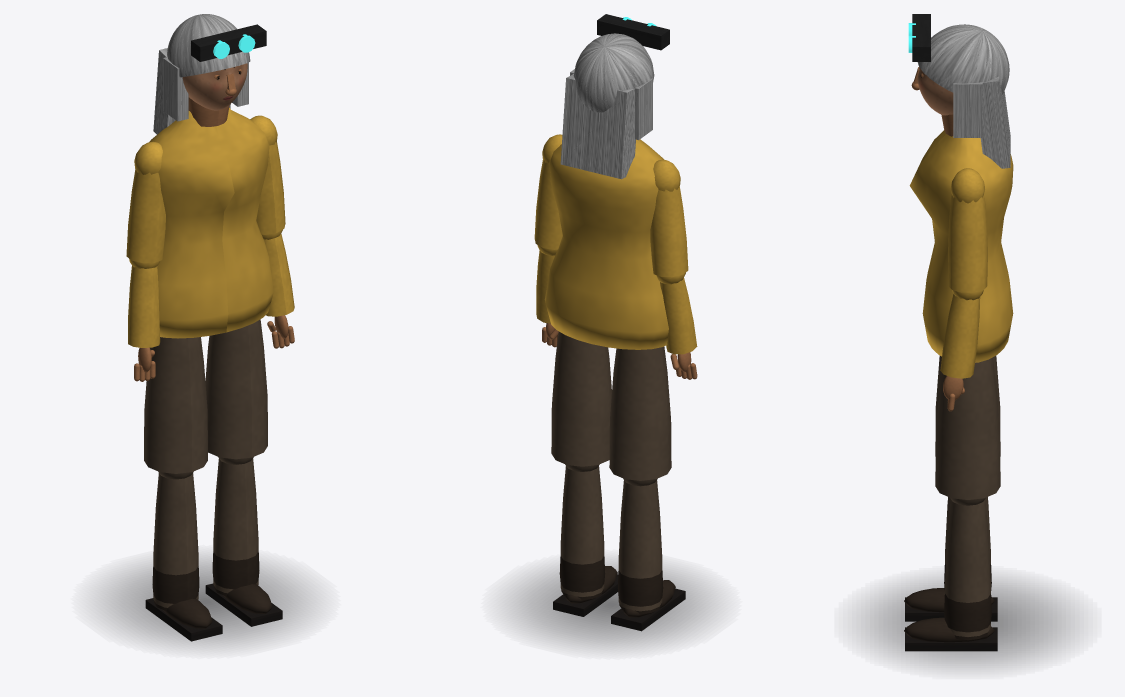
Rendered from npc_dot.glb.
3 views of the same model, side by side, from view 1: azimuth 30°, elevation 25°; view 2: azimuth 150°, elevation 25°; view 3: azimuth 270°, elevation 25° (orthographic). The views are drawn at different scales.
Parts seen in each view (by area): view 1: chest, object 11, head, legL, legR, shinL, shinR, armL, foreL, foreR, armR; view 2: chest, head, object 11, legL, legR, shinL, shinR, armL, foreL, armR, foreR; view 3: chest, object 11, head, shinR, legR, armR, foreR, shinL, legL.
Part boxes in pixels (x1,y1,x2,y2): chest: [149, 97, 273, 338]; object 11: [98, 556, 313, 646]; head: [153, 14, 266, 134]; legL: [144, 337, 207, 473]; legR: [205, 319, 267, 459]; shinL: [145, 471, 222, 641]; shinR: [205, 457, 282, 626]; armL: [126, 141, 165, 263]; foreL: [128, 258, 160, 381]; foreR: [262, 229, 294, 348]; armR: [250, 115, 285, 234]; chest: [544, 139, 668, 349]; head: [560, 14, 669, 179]; object 11: [507, 561, 715, 648]; legL: [609, 346, 671, 480]; legR: [551, 331, 611, 466]; shinL: [611, 478, 685, 631]; shinR: [553, 464, 618, 616]; armL: [650, 159, 688, 277]; foreL: [656, 272, 697, 379]; armR: [534, 134, 562, 249]; foreR: [536, 245, 558, 347]; chest: [909, 114, 1013, 362]; object 11: [861, 578, 1074, 667]; head: [908, 14, 1010, 168]; shinR: [904, 497, 997, 651]; legR: [935, 357, 1000, 499]; armR: [948, 168, 987, 292]; foreR: [940, 290, 983, 411]; shinL: [904, 497, 997, 621]; legL: [935, 355, 1000, 456].
Bounding box in the file's own units: 0.539 × 1.25 × 0.539.
Materials: 8 (5 with a texture image).
